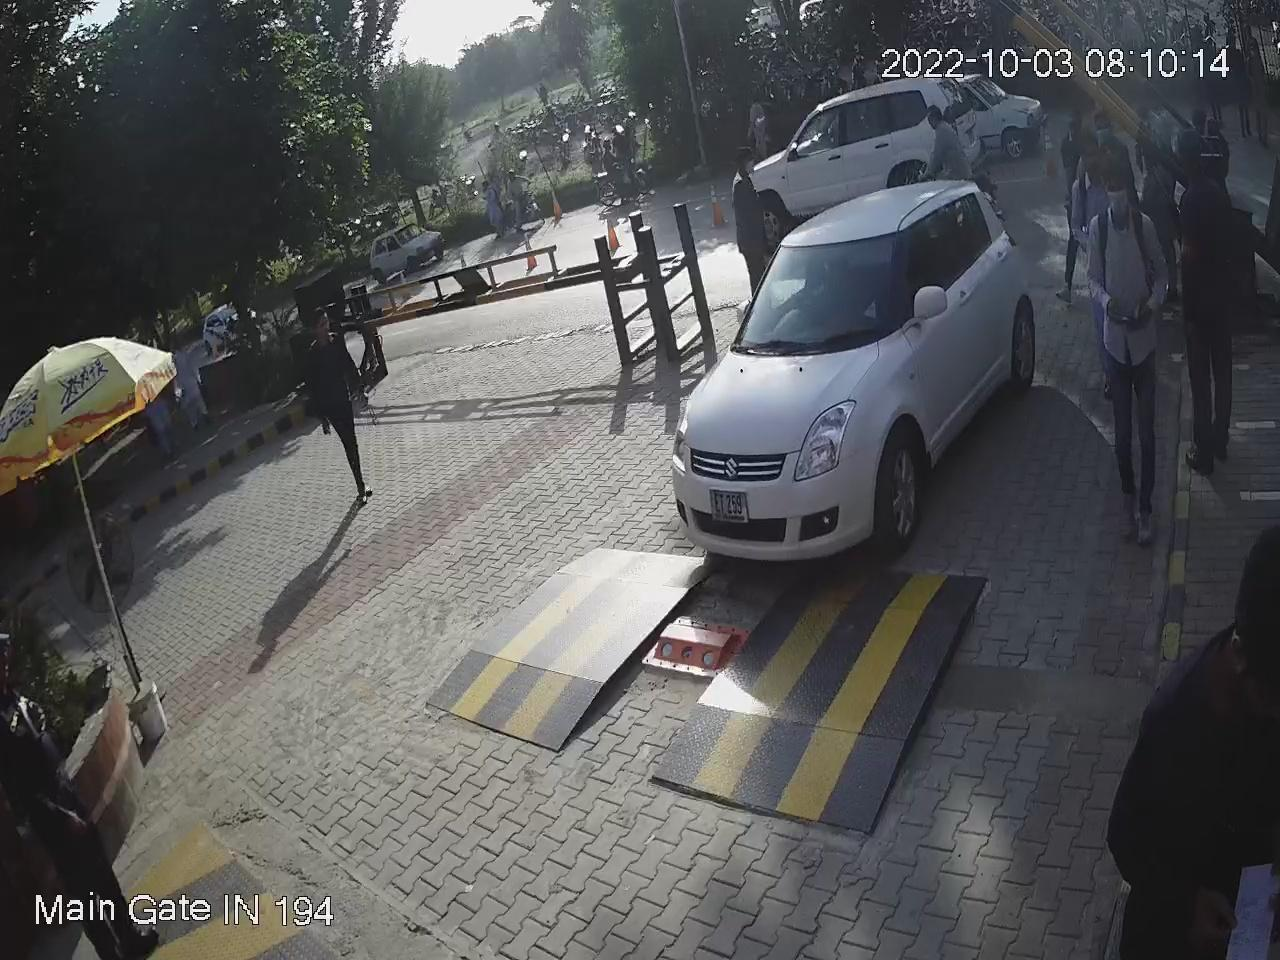windshield: (733, 225, 898, 353)
